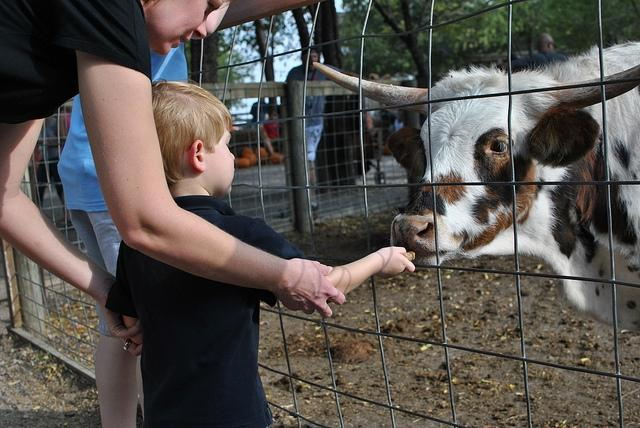pumpkin: (271, 152, 284, 164), (255, 147, 268, 159), (243, 147, 253, 159), (238, 158, 250, 168)
